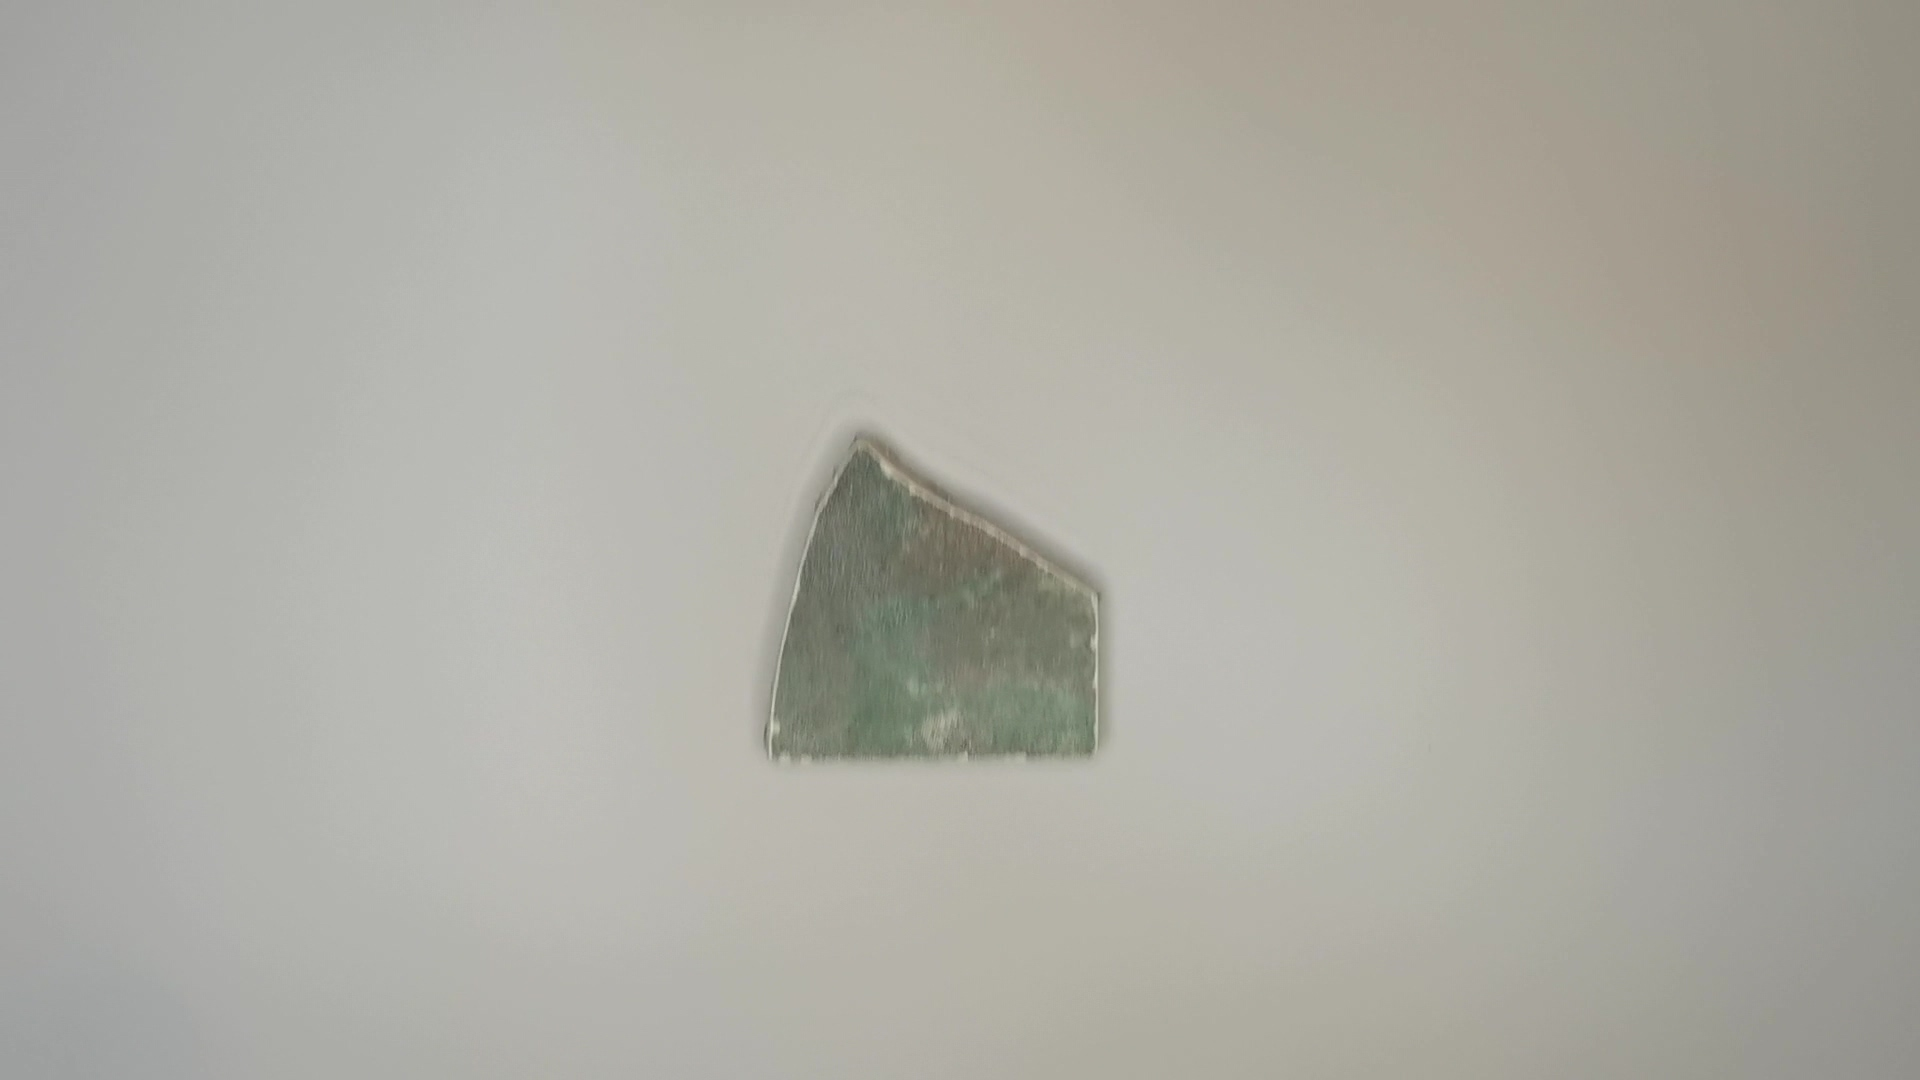ceramic: (756, 426, 1117, 767)
